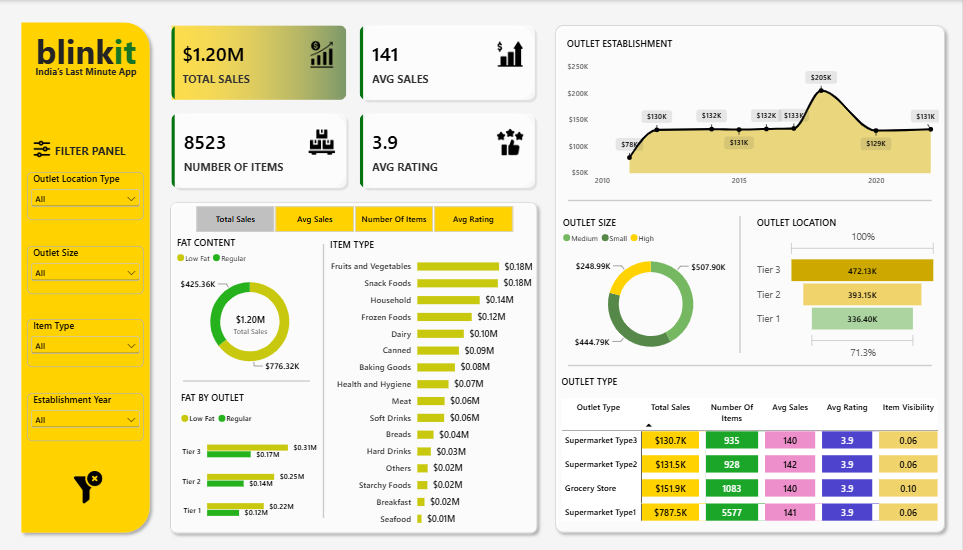

The page's visual inventory and layout, read from the dashboard file:
{"tool":"powerbi","page":{"name":"Page 1","canvas":[1400,800],"ordinal":0},"visuals":[{"type":"shape","box":[23.3,23.3,205.1,760.7],"z":0},{"type":"textbox","box":[39.2,40.8,174.7,65.3],"z":1000},{"type":"textbox","box":[39.2,94.7,174.7,34.3],"z":2000},{"type":"cardVisual","fields":{"Data":["BlinkIT Grocery Data.Total Sales","BlinkIT Grocery Data.Avg Sales","BlinkIT Grocery Data.No Of Items","BlinkIT Grocery Data.Avg Rating"]},"box":[240,26.1,551.8,259.6],"z":3000},{"type":"shape","box":[240,285.7,551.8,499.6],"z":4000},{"type":"donutChart","title":"FAT CONTENT","fields":{"Category":["BlinkIT Grocery Data.Item Fat Content"],"Y":["BlinkIT Grocery Data.Total Sales"]},"box":[248.2,339.6,230.2,218.8],"z":5000},{"type":"slicer","fields":{"Values":["Metrics.Metrics"]},"box":[266.1,298.8,499.6,40.8],"z":6000},{"type":"cardVisual","fields":{"Data":["BlinkIT Grocery Data.Total Sales"]},"box":[310.9,451.7,109.5,41.1],"z":7000},{"type":"clusteredBarChart","title":"FAT BY OUTLET","fields":{"Category":["BlinkIT Grocery Data.Outlet Location Type"],"Series":["BlinkIT Grocery Data.Item Fat Content"],"Y":["BlinkIT Grocery Data.Total Sales"]},"box":[248.2,555.1,230.2,230.2],"z":8000},{"type":"barChart","title":"ITEM TYPE","fields":{"Category":["BlinkIT Grocery Data.Item Type"],"Y":["BlinkIT Grocery Data.Total Sales"]},"box":[465.4,338.3,326.5,447.8],"z":9000},{"type":"shape","box":[267.6,546.9,184.7,14.5],"z":10000},{"type":"shape","box":[465.5,354.9,13.1,398.5],"z":11000},{"type":"shape","box":[800,27.8,584.5,755.9],"z":12000},{"type":"lineChart","title":"OUTLET ESTABLISHMENT","fields":{"Category":["BlinkIT Grocery Data.Outlet Establishment Year"],"Y":["BlinkIT Grocery Data.Total Sales"]},"box":[810.2,40.7,573.1,250.2],"z":13000},{"type":"shape","box":[827.6,285.1,529.5,13.1],"z":14000},{"type":"donutChart","title":"OUTLET SIZE","fields":{"Category":["BlinkIT Grocery Data.Outlet Size"],"Y":["BlinkIT Grocery Data.Total Sales"]},"box":[810.2,309.8,273.5,225.5],"z":15000},{"type":"shape","box":[1072,314.2,11.6,199.3],"z":16000},{"type":"funnel","title":"OUTLET LOCATION","fields":{"Category":["BlinkIT Grocery Data.Outlet Location Type"],"Y":["Sum(BlinkIT Grocery Data.Sales)"]},"box":[1093,310.2,279.6,224.9],"z":17000},{"type":"shape","box":[827.8,525.7,529,13.1],"z":18000},{"type":"pivotTable","title":"  OUTLET TYPE","fields":{"Rows":["BlinkIT Grocery Data.Outlet Type"],"Values":["BlinkIT Grocery Data.Total Sales","BlinkIT Grocery Data.No Of Items","BlinkIT Grocery Data.Avg Sales","BlinkIT Grocery Data.Avg Rating","Avg(BlinkIT Grocery Data.Item Visibility)"]},"box":[809.8,532.2,566.5,249.8],"z":19000},{"type":"slicer","fields":{"Values":["BlinkIT Grocery Data.Outlet Location Type"]},"box":[40.8,249.8,169.8,70.2],"z":20000},{"type":"slicer","fields":{"Values":["BlinkIT Grocery Data.Outlet Size"]},"box":[41,357.1,170,70],"z":21000},{"type":"slicer","fields":{"Values":["BlinkIT Grocery Data.Item Type"]},"box":[41,464.3,170,70],"z":22000},{"type":"textbox","box":[60.4,207.3,143.7,29.4],"z":23000},{"type":"slicer","fields":{"Values":["BlinkIT Grocery Data.Outlet Establishment Year"]},"box":[40.8,571.4,169.8,70.2],"z":24000},{"type":"image","box":[60.4,685.7,137.1,47.3],"z":25000},{"type":"image","box":[37.6,202.4,49,29.4],"z":27001}]}

Visuals, with their boxes in screenshot pixels (x1, y1, x2, y2), scaled from the page's 1400x800 canvas onto the 963x550 screenshot:
shape: left=16, top=16, right=157, bottom=539
textbox: left=27, top=28, right=147, bottom=73
textbox: left=27, top=65, right=147, bottom=89
cardVisual - BlinkIT Grocery Data.Total Sales x BlinkIT Grocery Data.Avg Sales: left=165, top=18, right=545, bottom=196
shape: left=165, top=196, right=545, bottom=540
"FAT CONTENT" donutChart: left=171, top=233, right=329, bottom=384
slicer - Metrics.Metrics: left=183, top=205, right=527, bottom=233
cardVisual - BlinkIT Grocery Data.Total Sales: left=214, top=311, right=289, bottom=339
"FAT BY OUTLET" clusteredBarChart: left=171, top=382, right=329, bottom=540
"ITEM TYPE" barChart: left=320, top=233, right=545, bottom=540
shape: left=184, top=376, right=311, bottom=386
shape: left=320, top=244, right=329, bottom=518
shape: left=550, top=19, right=952, bottom=539
"OUTLET ESTABLISHMENT" lineChart: left=557, top=28, right=952, bottom=200
shape: left=569, top=196, right=933, bottom=205
"OUTLET SIZE" donutChart: left=557, top=213, right=745, bottom=368
shape: left=737, top=216, right=745, bottom=353
"OUTLET LOCATION" funnel: left=752, top=213, right=944, bottom=368
shape: left=569, top=361, right=933, bottom=370
"  OUTLET TYPE" pivotTable: left=557, top=366, right=947, bottom=538
slicer - BlinkIT Grocery Data.Outlet Location Type: left=28, top=172, right=145, bottom=220
slicer - BlinkIT Grocery Data.Outlet Size: left=28, top=246, right=145, bottom=294
slicer - BlinkIT Grocery Data.Item Type: left=28, top=319, right=145, bottom=367
textbox: left=42, top=143, right=140, bottom=163
slicer - BlinkIT Grocery Data.Outlet Establishment Year: left=28, top=393, right=145, bottom=441
image: left=42, top=471, right=136, bottom=504
image: left=26, top=139, right=60, bottom=159
